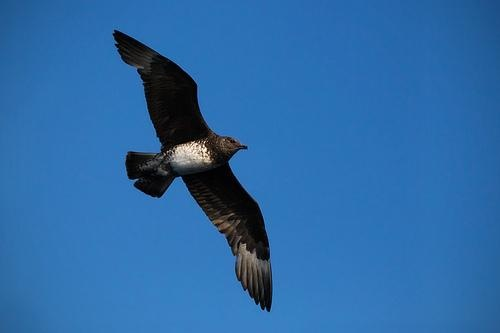bird: (108, 28, 274, 315)
